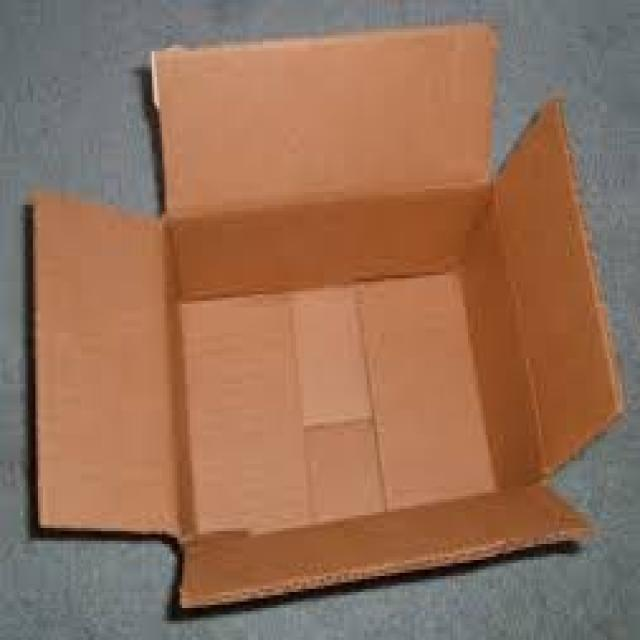Cardboard: (27, 20, 615, 603)
